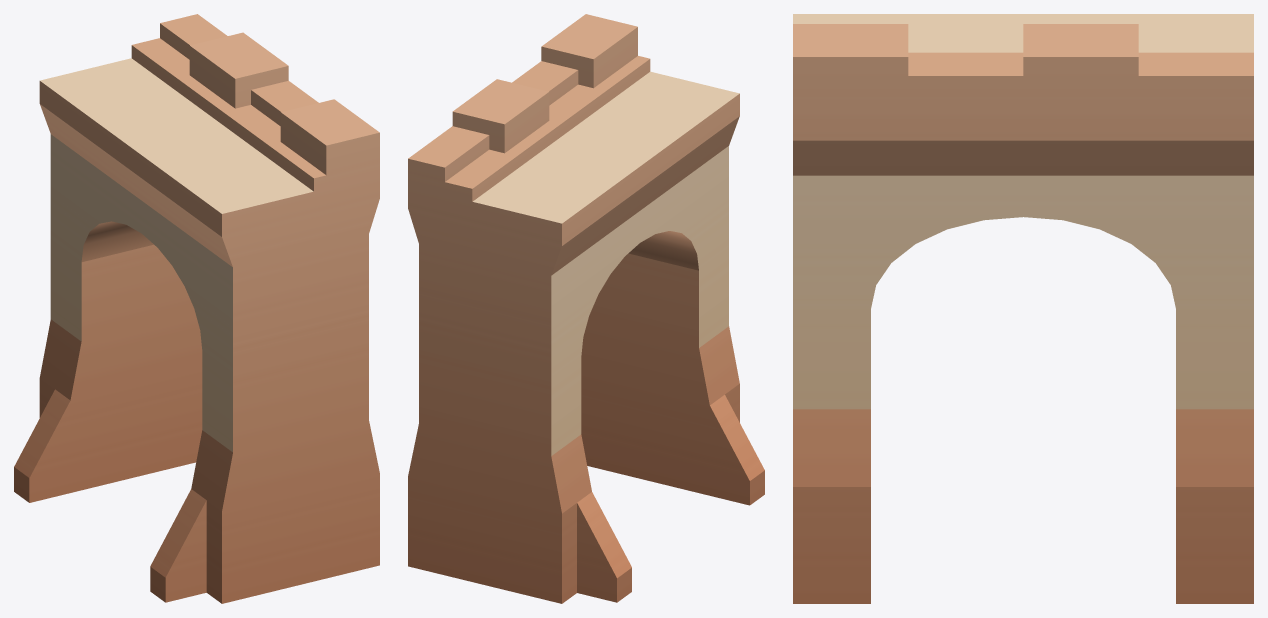
File: wall-narrow-gate.obj
3 renders of one model, left to right at view 1: azimuth 30°, elevation 25°; view 2: azimuth 150°, elevation 25°; view 3: azimuth 270°, elevation 25°, orthographic. The views are drawn at different scales.
Visible parts, largest first — view 1: wall-narrow-gate; view 2: wall-narrow-gate; view 3: wall-narrow-gate.
Part boxes in pixels (left/top/right/bottom): wall-narrow-gate: left=14, top=14, right=379, bottom=603; wall-narrow-gate: left=408, top=14, right=764, bottom=603; wall-narrow-gate: left=793, top=14, right=1253, bottom=603.
Bounding box in the file's own units: 0.63 × 1.31 × 1.
1 material, 1 textured.
